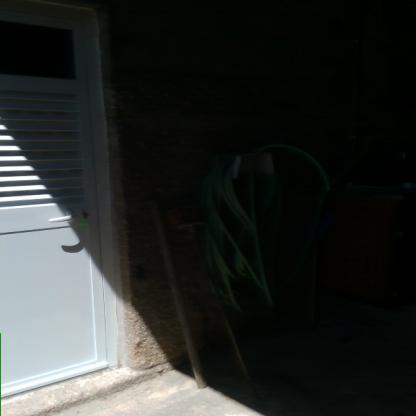door: (0, 4, 111, 370)
lever: (44, 212, 78, 225)
